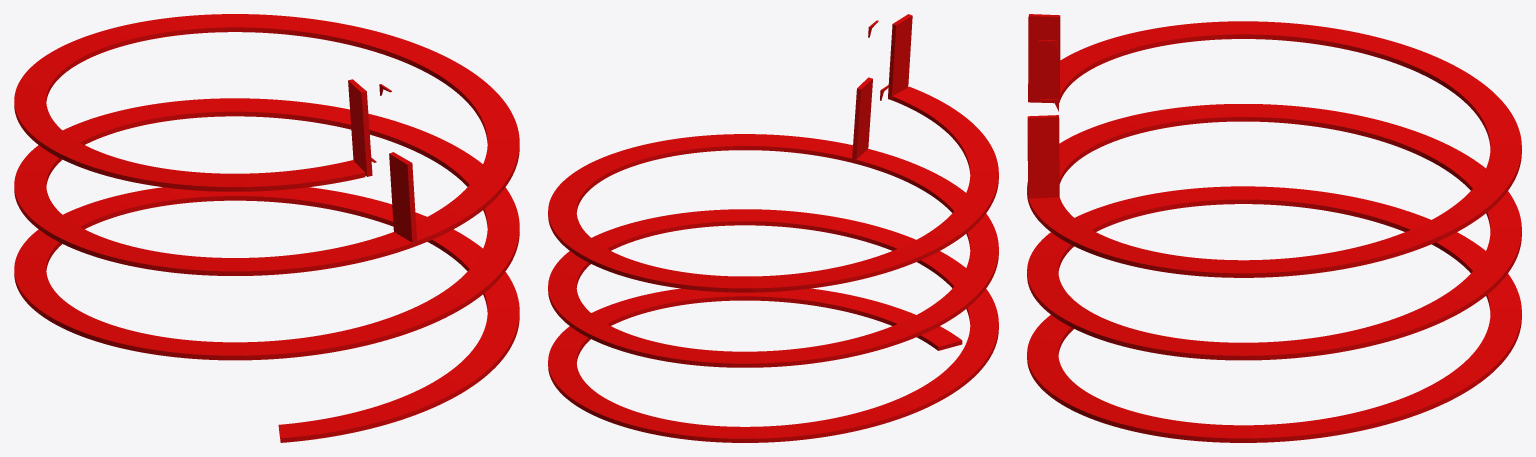
Rendered from Level2Collision.fbx.
3 views of the same model, side by side, from view 1: azimuth 30°, elevation 25°; view 2: azimuth 150°, elevation 25°; view 3: azimuth 270°, elevation 25° (orthographic). The views are drawn at different scales.
Parts seen in each view (by area): view 1: MiddleFloorCollision368; view 2: MiddleFloorCollision368; view 3: MiddleFloorCollision368.
Boxes of the visible parts, x1,y1,x2,y2 form: MiddleFloorCollision368: (14, 14, 519, 442); MiddleFloorCollision368: (548, 14, 998, 442); MiddleFloorCollision368: (1027, 14, 1521, 442).
Size of the model in its own units: 10650 by 7979 by 10650.
